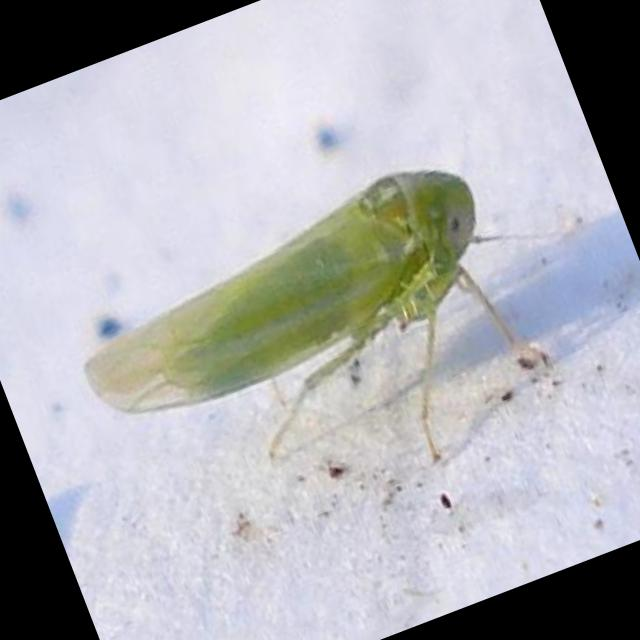green-leafhopper: (54, 149, 515, 456)
